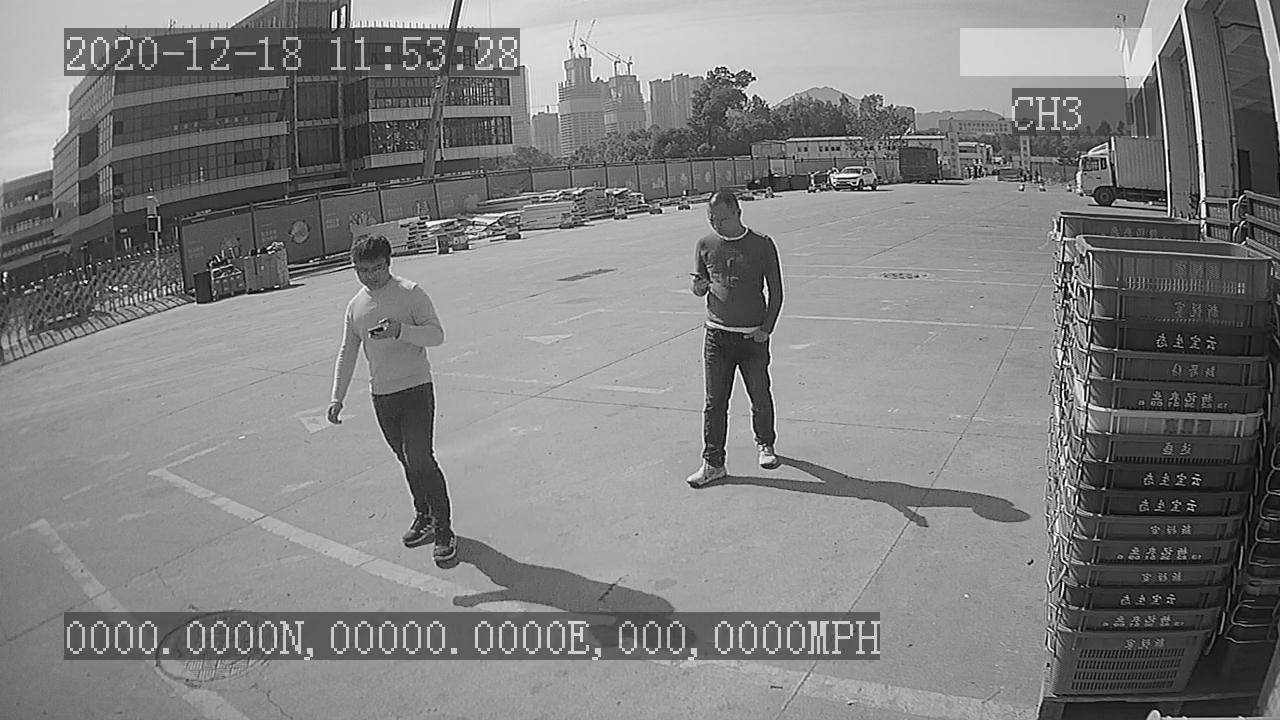person: (315, 227, 461, 576), (670, 183, 788, 494)
